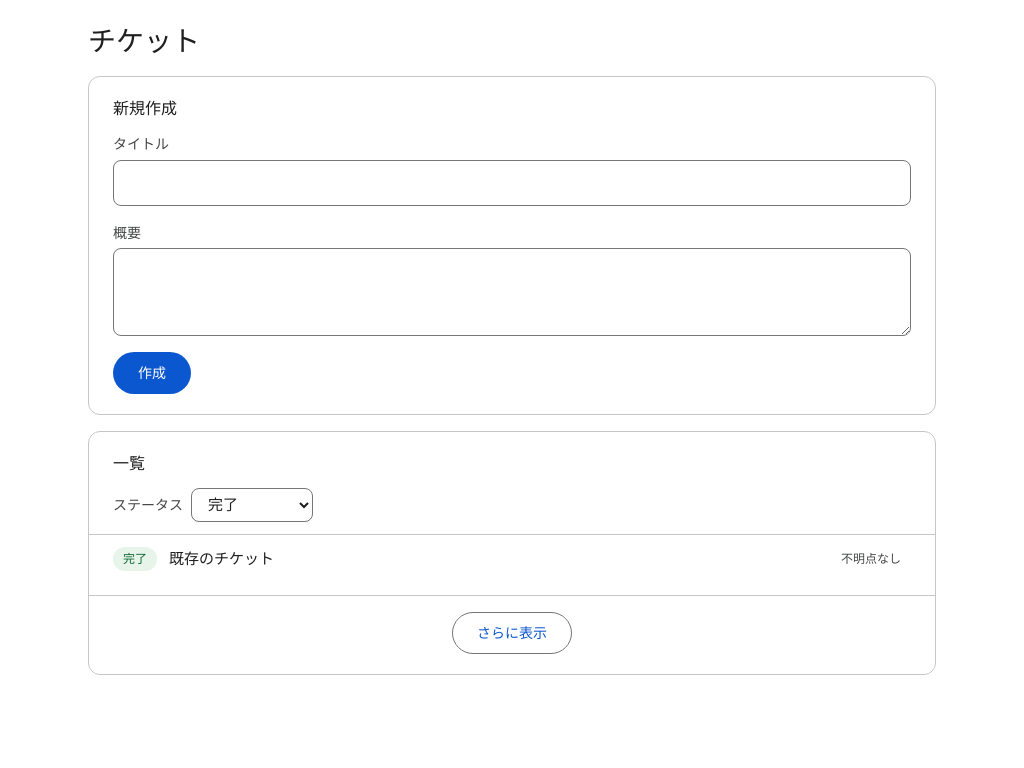
Test: 一覧の続き › 絞り込んでいるときは、続きも同じ絞り込みで取得する
The image size is (1024, 768).
Click the button "さらに表示".
click(512, 633)  # box x1=452 y1=612 x2=572 y2=654
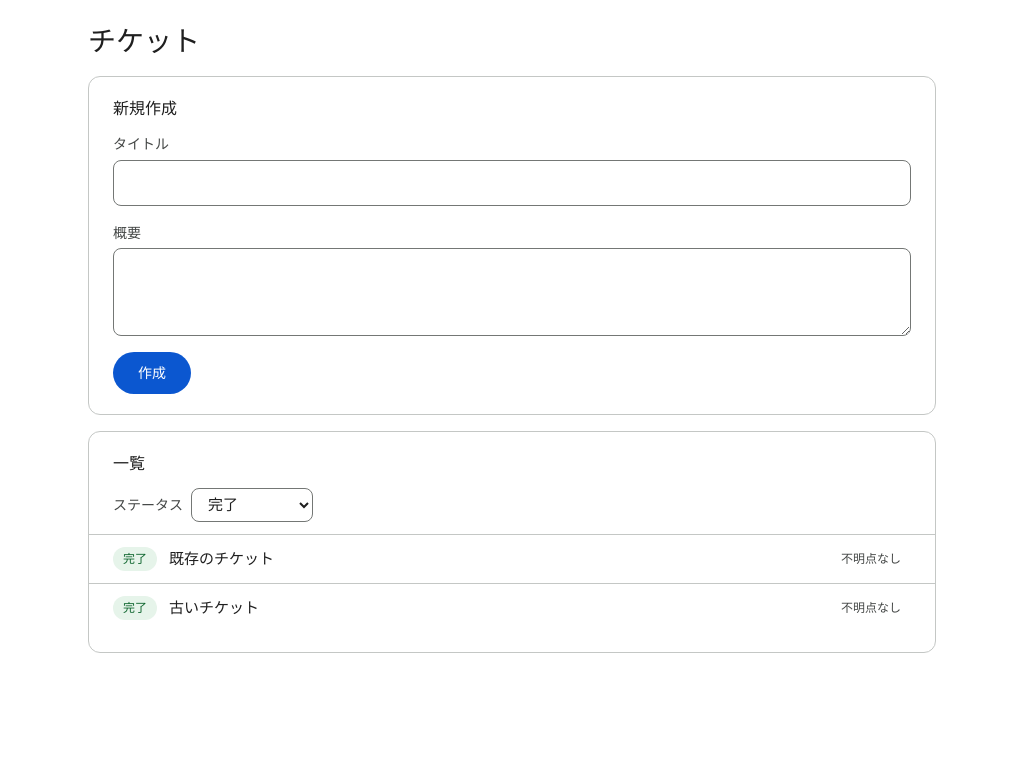
Expected: the link "古いチケット" is shown, x1=169 y1=599 x2=259 y2=617
